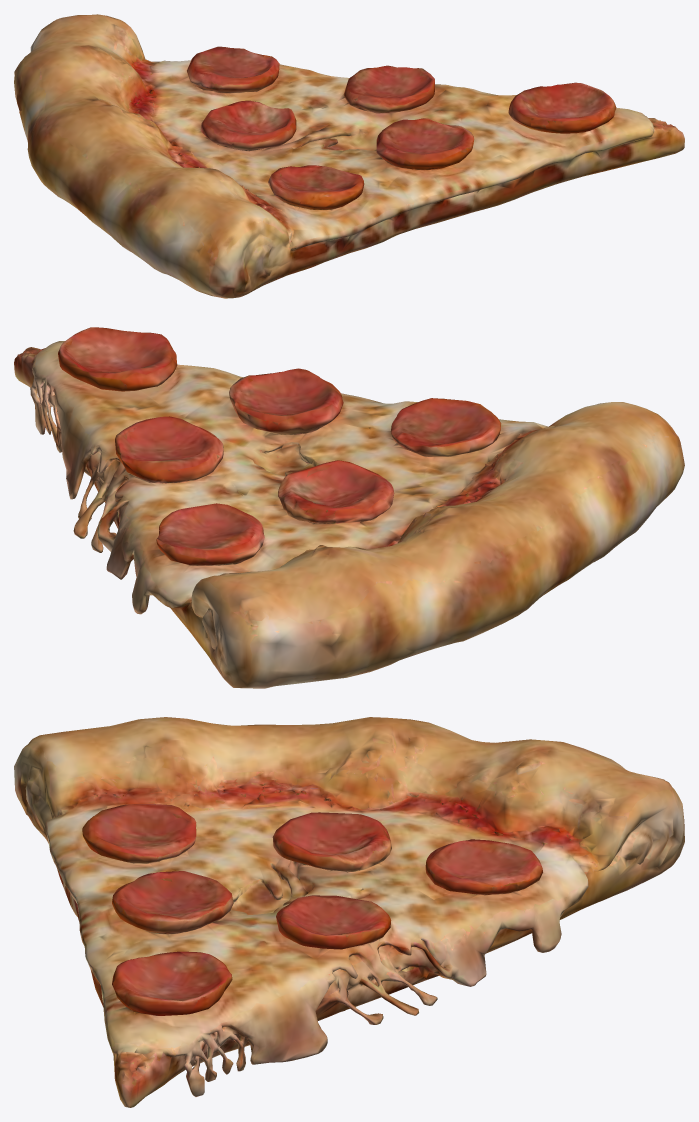
The picture shows the model from 3 angles, top to bottom: view 1: azimuth 30°, elevation 25°; view 2: azimuth 150°, elevation 25°; view 3: azimuth 270°, elevation 25°; orthographic projection. The views are drawn at different scales.
Size of the model in its own units: 1.9 by 0.3466 by 1.69.
1 material, 1 textured.
